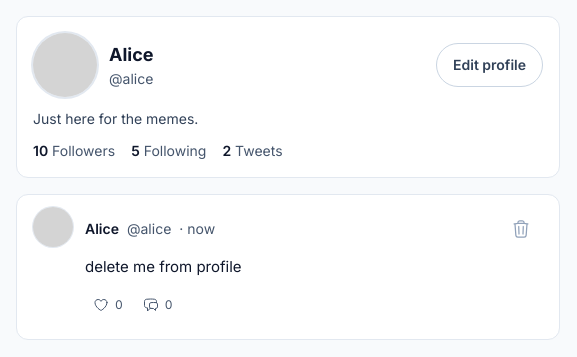
Scenario: ProfilePage › removes a deleted own tweet from the profile tweet list
The width and height of the screenshot is (577, 357).
Expected: the text "delete me from profile" is shown, [85, 257, 242, 276]
Click the button named "delete tweet" at (521, 229), box [499, 207, 543, 251]
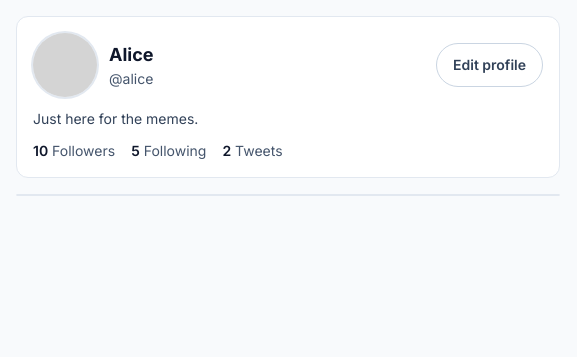
Expected: the text "delete me from profile" is gone
